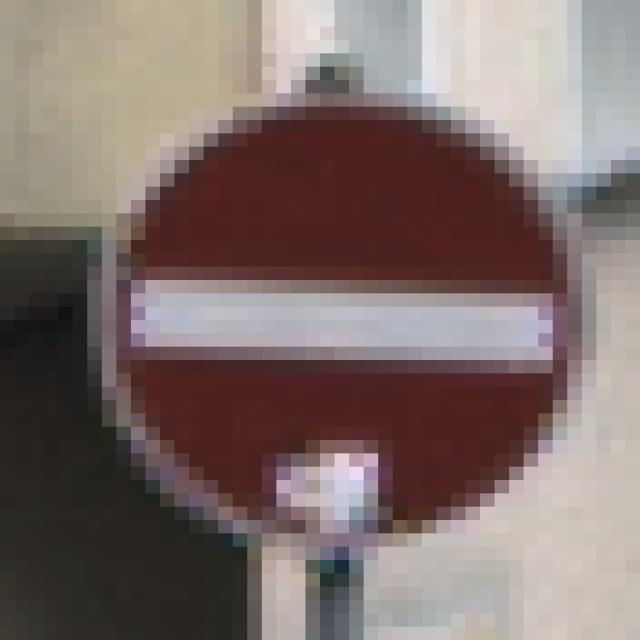No Entry: (88, 81, 554, 561)
